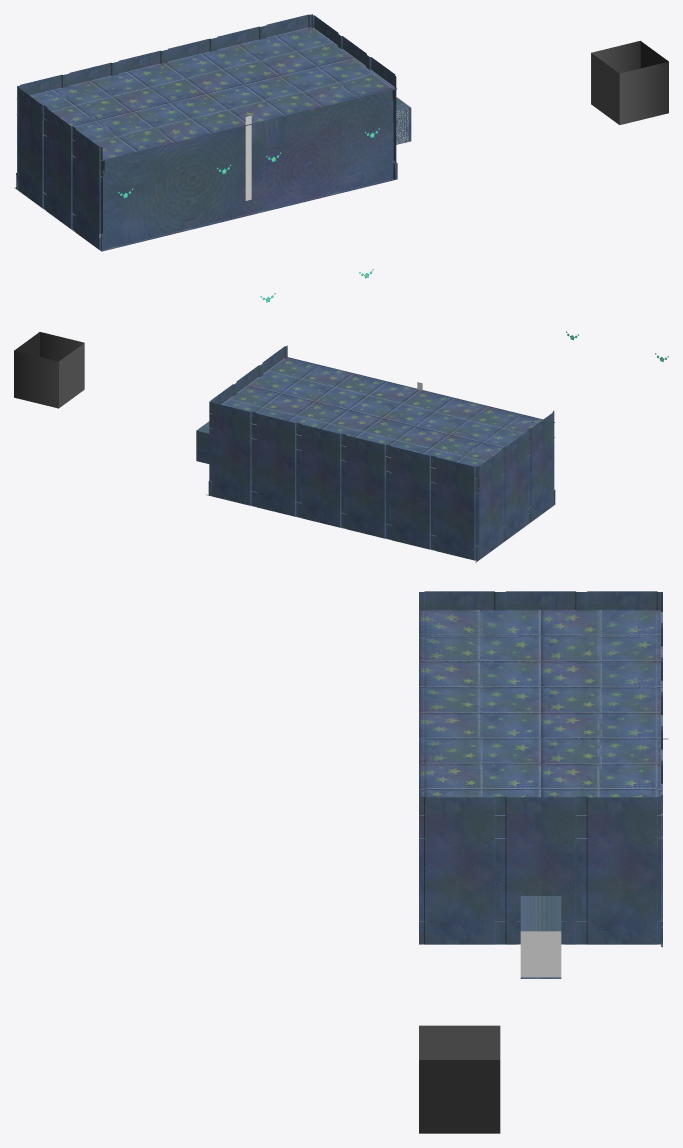
File: las_17.dae
3 renders of one model, top to bottom at view 1: azimuth 30°, elevation 25°; view 2: azimuth 150°, elevation 25°; view 3: azimuth 270°, elevation 25°, orthographic. The views are drawn at different scales.
Visible parts, largest first — view 1: pCube4_q00011, pCube1_q00215, pCube1_q00009, polySurface216_q00002, pCube3_q00210, pCube3_q00208, pCube3_q00209, w_bero_1, pCube3_q00198, pCube1_q00216, pCube3_q00187, pCube3_q00186 (+6 smaller); view 2: pCube1_q00215, pCube1_q00009, pCube3_q00186, pCube3_q00187, pCube3_q00184, pCube3_q00183, pCube3_q00182, pCube3_q00185, polySurface216_q00002, pCube3_q00208, pCube3_q00210, pCube3_q00209 (+2 smaller); view 3: pCube1_q00215, pCube1_q00009, pCube3_q00197, pCube3_q00196, pCube3_q00198, polySurface216_q00002, w_bero_1, polySurface204_q00000, pCube3_q00210, pCube3_q00208, pCube3_q00209, pCube3_q00005.
Boxes of the visible parts, x1=… form: pCube4_q00011: x1=103, y1=90, x2=393, y2=249; pCube1_q00215: x1=16, y1=27, x2=396, y2=161; pCube1_q00009: x1=31, y1=29, x2=392, y2=158; polySurface216_q00002: x1=591, y1=40, x2=668, y2=124; pCube3_q00210: x1=43, y1=107, x2=74, y2=229; pCube3_q00208: x1=71, y1=127, x2=102, y2=249; pCube3_q00209: x1=14, y1=86, x2=45, y2=209; w_bero_1: x1=591, y1=53, x2=619, y2=124; pCube3_q00198: x1=339, y1=35, x2=411, y2=144; pCube1_q00216: x1=100, y1=178, x2=394, y2=251; pCube3_q00187: x1=17, y1=74, x2=66, y2=173; pCube3_q00186: x1=66, y1=62, x2=115, y2=86; pCube1_q00215: x1=209, y1=357, x2=554, y2=478; pCube1_q00009: x1=223, y1=363, x2=541, y2=466; pCube3_q00186: x1=388, y1=445, x2=433, y2=549; pCube3_q00187: x1=430, y1=456, x2=478, y2=560; pCube3_q00184: x1=206, y1=401, x2=254, y2=505; pCube3_q00183: x1=295, y1=423, x2=343, y2=527; pCube3_q00182: x1=252, y1=412, x2=298, y2=516; pCube3_q00185: x1=344, y1=434, x2=388, y2=538; polySurface216_q00002: x1=14, y1=332, x2=84, y2=408; pCube3_q00208: x1=528, y1=411, x2=554, y2=523; pCube3_q00210: x1=502, y1=430, x2=528, y2=541; pCube3_q00209: x1=475, y1=448, x2=502, y2=562; pCube1_q00215: x1=419, y1=609, x2=662, y2=815; pCube1_q00009: x1=424, y1=611, x2=657, y2=797; pCube3_q00197: x1=419, y1=796, x2=500, y2=944; pCube3_q00196: x1=576, y1=796, x2=660, y2=944; pCube3_q00198: x1=495, y1=796, x2=581, y2=978; polySurface216_q00002: x1=419, y1=1060, x2=500, y2=1133; w_bero_1: x1=419, y1=1025, x2=500, y2=1059; polySurface204_q00000: x1=520, y1=931, x2=561, y2=977; pCube3_q00210: x1=500, y1=591, x2=581, y2=610; pCube3_q00208: x1=419, y1=591, x2=500, y2=610; pCube3_q00209: x1=581, y1=591, x2=668, y2=739; pCube3_q00005: x1=521, y1=909, x2=560, y2=931.
Bounding box in the file's own units: 115 × 20 × 80.55.
